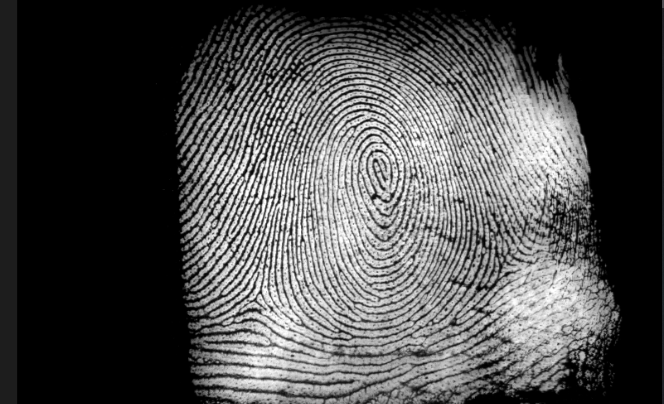nucelo: (364, 148, 394, 200)
verticilo: (493, 251, 522, 283), (241, 284, 269, 312)
